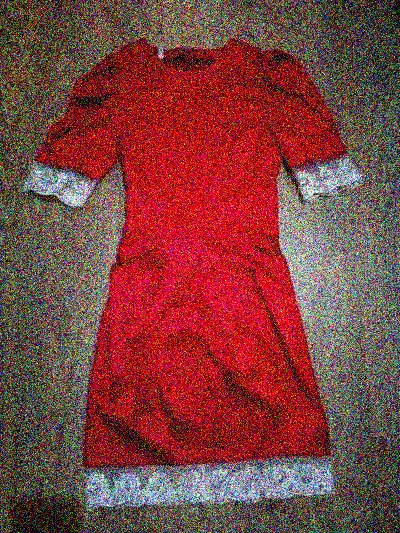Dress: (19, 18, 375, 523)
